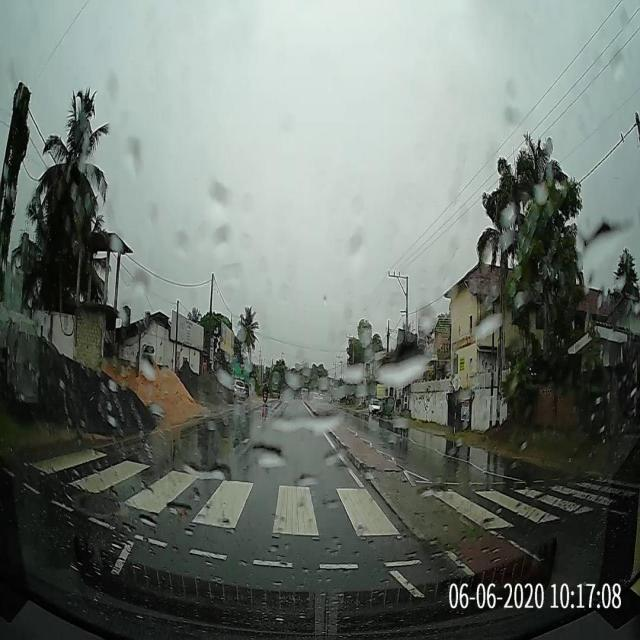Crosswalk: (7, 442, 638, 568)
